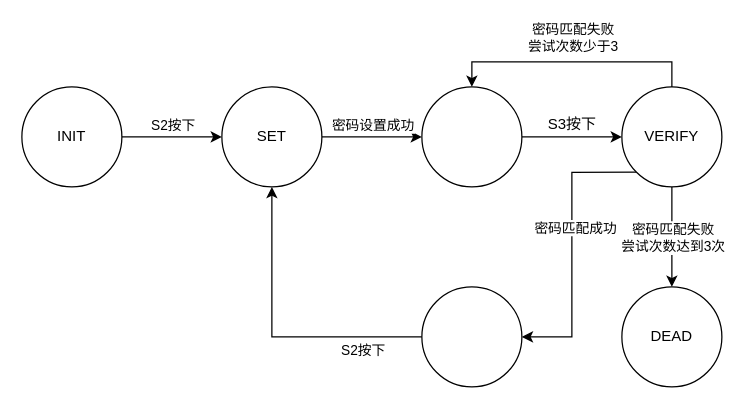
Some shapes in this 746 by 409 pixel diagram are drawn without their labels. Here are the shapes that lost their labels. From the top down, the box of each, then its label:
(421, 86, 522, 187): LOCK
(421, 286, 522, 387): UNLOCK
